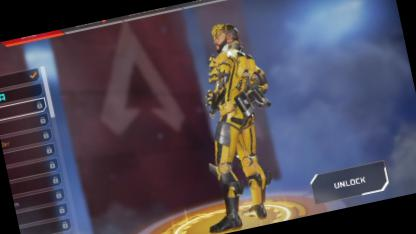Target: (177, 16, 294, 230)
